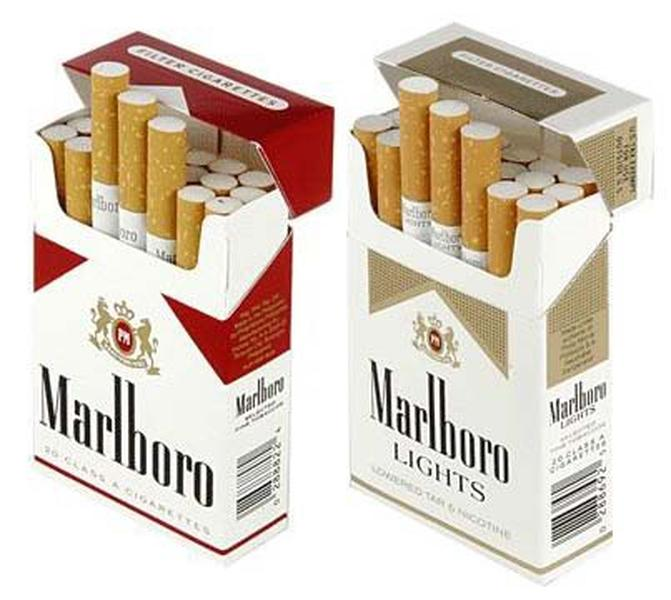marlboro_red: (34, 189, 229, 477)
